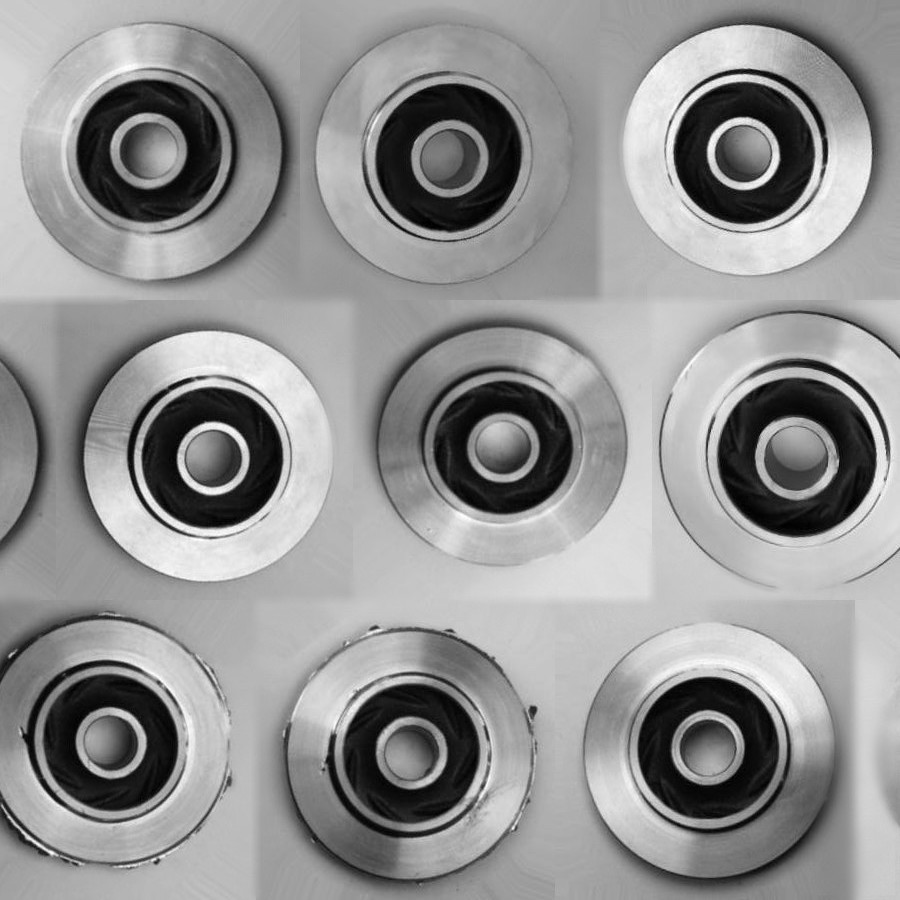pump_impeller: (16, 19, 286, 286), (311, 22, 577, 286), (580, 615, 841, 884), (656, 311, 899, 595), (76, 325, 338, 584), (278, 626, 537, 886), (619, 20, 878, 275), (371, 319, 627, 567), (3, 612, 230, 874)
